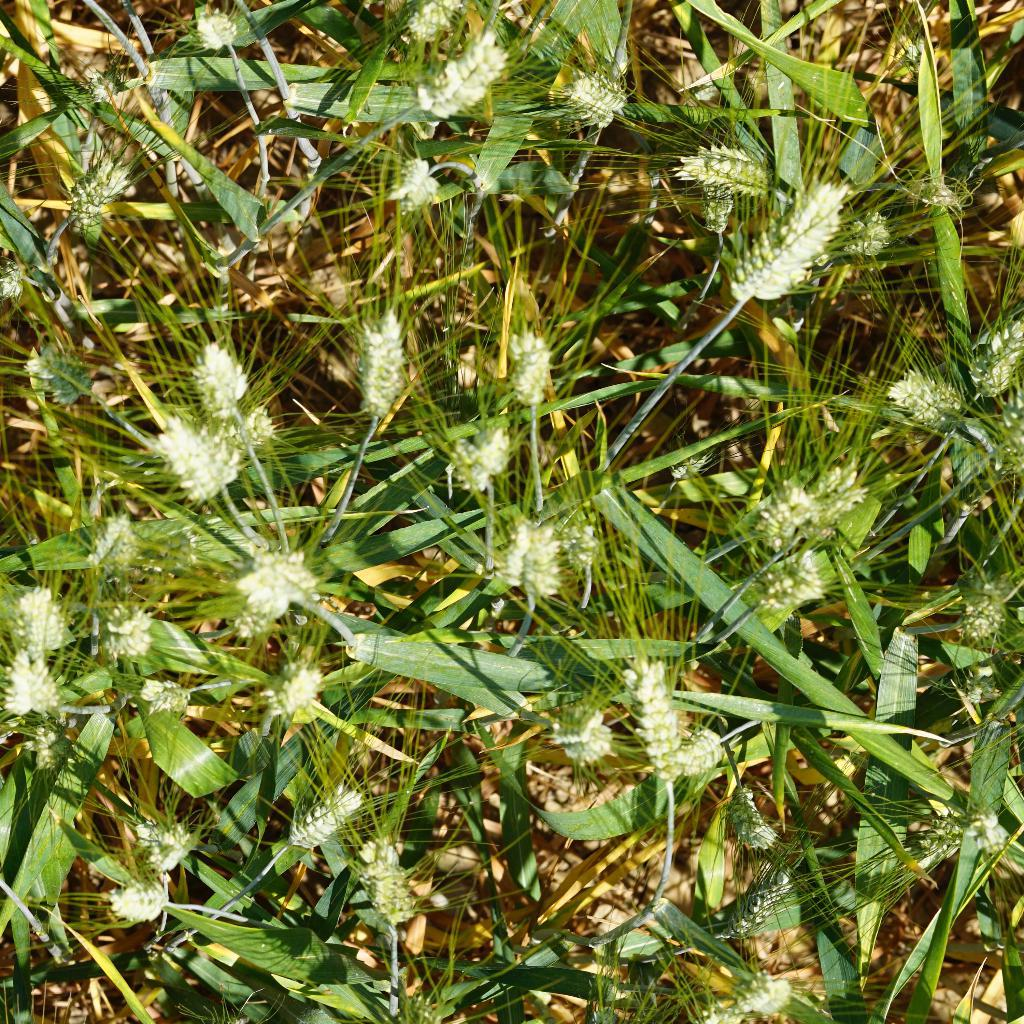0-0: (722, 178, 843, 322), (404, 27, 516, 124), (333, 832, 436, 927), (620, 647, 688, 783), (340, 306, 415, 428), (150, 403, 232, 508), (677, 135, 785, 213), (230, 534, 324, 620), (881, 361, 971, 443), (787, 462, 879, 539), (707, 864, 795, 942), (549, 62, 638, 138), (504, 507, 568, 612), (56, 150, 135, 228), (82, 582, 164, 656), (501, 313, 564, 406), (286, 776, 359, 856), (12, 343, 94, 414), (897, 793, 967, 869), (556, 692, 620, 774), (658, 418, 730, 489), (953, 570, 1011, 657), (0, 579, 64, 657), (437, 421, 509, 490), (960, 325, 1020, 407), (721, 785, 784, 863), (747, 553, 821, 619), (251, 653, 322, 721), (134, 521, 213, 582), (124, 662, 206, 720), (189, 333, 243, 421), (189, 406, 277, 460), (107, 862, 180, 926), (81, 512, 144, 585), (129, 804, 197, 871), (381, 149, 448, 216), (743, 475, 806, 546), (194, 0, 262, 64), (4, 646, 64, 718), (965, 411, 1024, 481), (661, 725, 733, 780), (731, 965, 799, 1023), (554, 506, 605, 582), (19, 720, 78, 783), (893, 24, 945, 92), (845, 202, 890, 280), (688, 183, 742, 246), (403, 0, 475, 45), (76, 57, 133, 108), (971, 802, 1012, 862), (951, 669, 1003, 708), (567, 994, 627, 1024), (0, 249, 26, 316), (393, 1002, 463, 1024), (690, 1002, 754, 1024)
